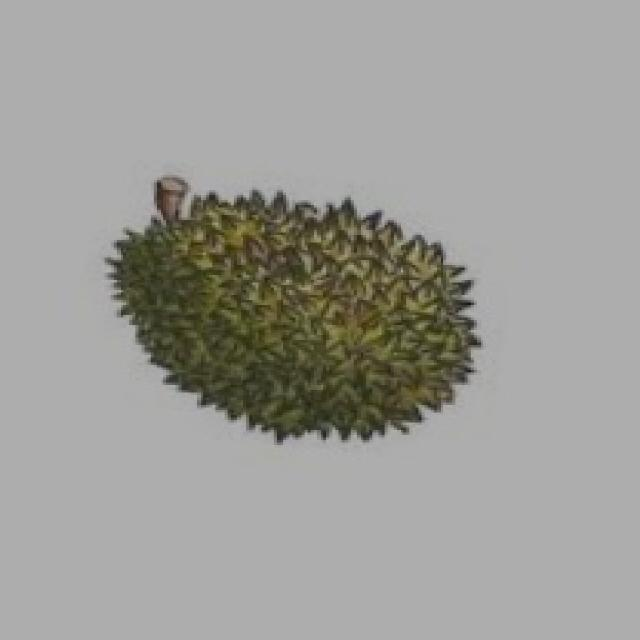fruit: (77, 158, 492, 492)
